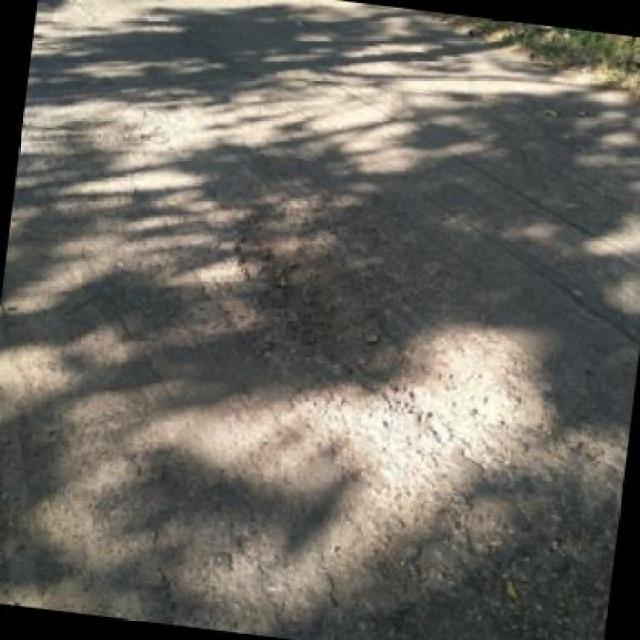pothole1: (213, 200, 436, 403)
